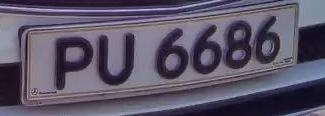6: (151, 24, 193, 84), (188, 20, 225, 81), (250, 13, 285, 72)
8: (221, 17, 256, 75)
P: (48, 30, 101, 95)
U: (93, 28, 141, 91)
